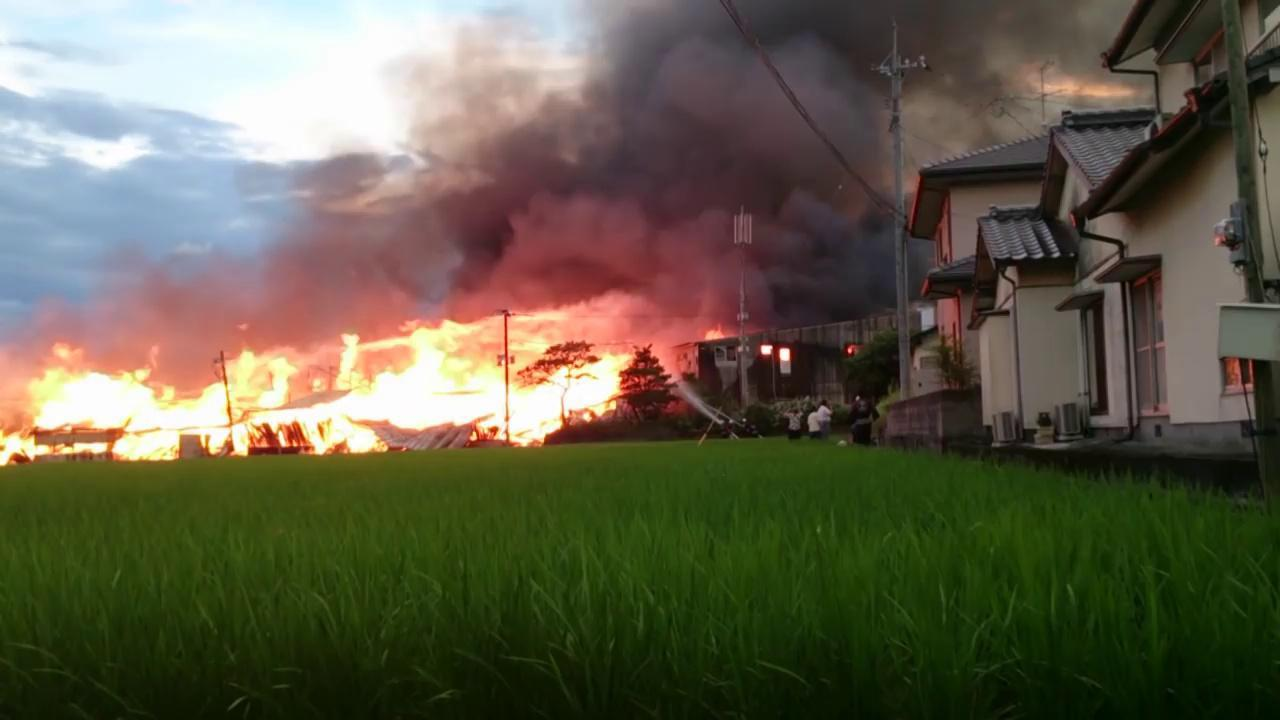Fire: (846, 342, 861, 355)
